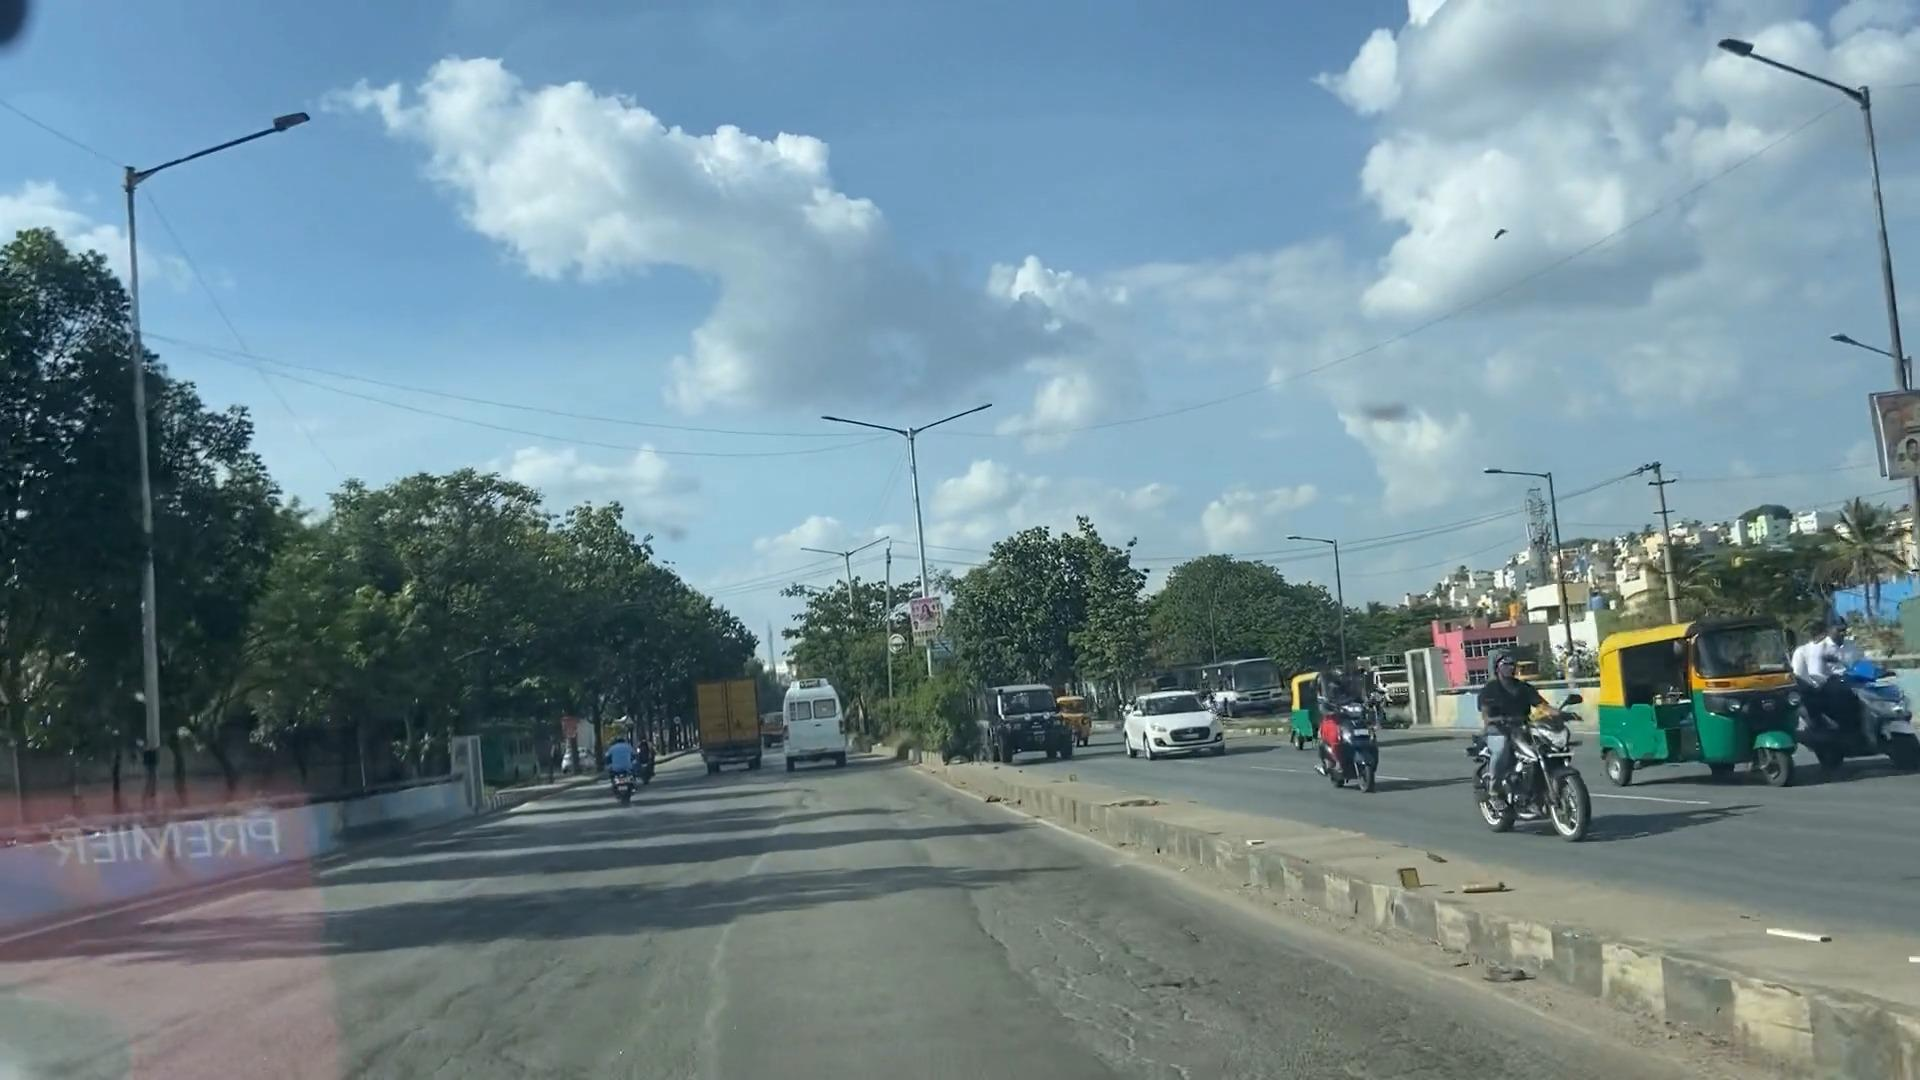HMV: (681, 673, 776, 787), (783, 653, 841, 773)
LMV: (589, 720, 650, 810)
RoadDamages: (780, 833, 1204, 1080), (1081, 889, 1306, 1080), (364, 967, 720, 1080), (1329, 987, 1469, 1080)
